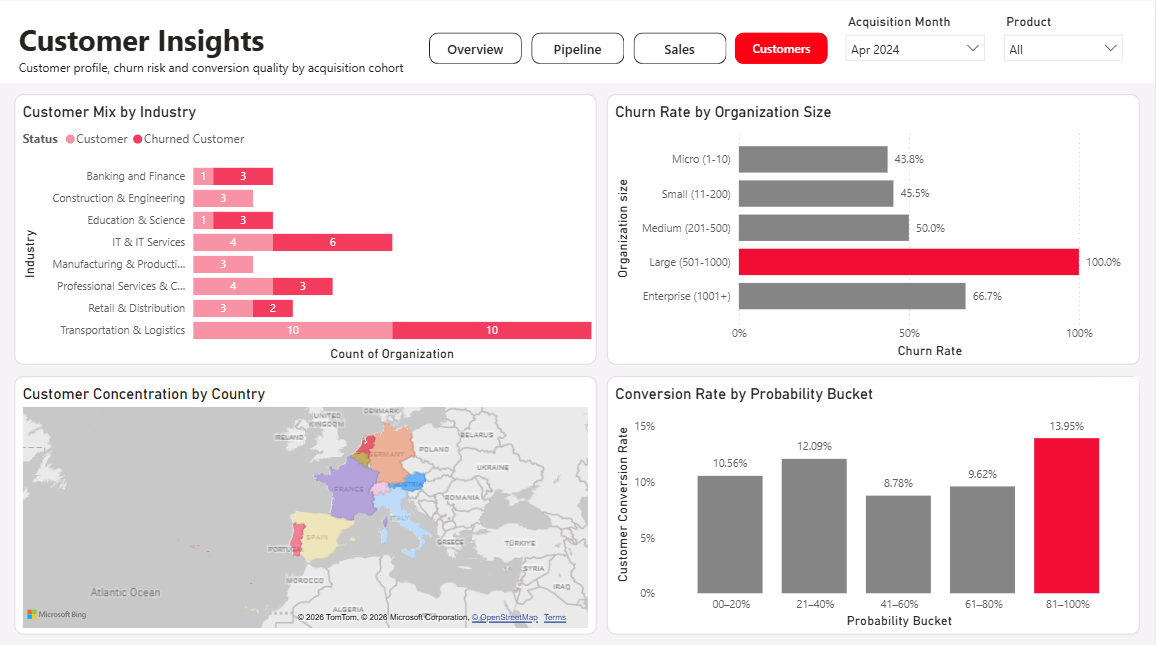

This screenshot's page, from the dashboard's own definition file:
{"tool":"powerbi","page":{"name":"Customers","canvas":[1280,720],"ordinal":3},"visuals":[{"type":"textbox","box":[0,0,1280,90],"z":0},{"type":"textbox","title":"CRM & Sales Pipeline Overview","box":[16,16,485.7,73.1],"z":1000},{"type":"pageNavigator","box":[475.4,35,444.3,35.7],"z":2000},{"type":"slicer","title":"Expected Close Month","fields":{"Values":["DimDate.Year Month"]},"box":[931,9.1,164.6,68.6],"z":3000},{"type":"slicer","title":"Expected Close Month","fields":{"Values":["DimProduct.Product"]},"box":[1106.3,9.1,141.7,68.6],"z":4000},{"type":"barChart","title":"Customer Mix by Industry","fields":{"Category":["DimIndustry.Industry"],"Series":["DimStatus.Status"],"Y":["CountNonNull(Fact_CRM_Pipeline.Organization)"]},"box":[16,102.7,645,300],"z":5000},{"type":"clusteredBarChart","title":"Churn Rate by Organization Size","fields":{"Category":["DimOrgSize.Organization size"],"Y":["Fact_CRM_Pipeline.Churn Rate"]},"box":[672,102.7,590.7,300],"z":6000},{"type":"filledMap","title":"Customer Concentration by Country","fields":{"Category":["DimGeography.Country"],"X":["Avg(DimGeography.Longitude)"],"Y":["Avg(DimGeography.Latitude)"]},"box":[16,415,645,287],"z":7000},{"type":"clusteredColumnChart","title":"Conversion Rate by Probability Bucket","fields":{"Category":["Fact_CRM_Pipeline.Probability Bucket"],"Y":["Fact_CRM_Pipeline.Customer Conversion Rate"]},"box":[672,415,591,287],"z":8000}]}

Visuals, with their boxes in screenshot pixels (x1, y1, x2, y2), scaled from the page's 1280x720 canvas onto the 1156x645 screenshot:
textbox: bbox(0, 0, 1155, 81)
"CRM & Sales Pipeline Overview" textbox: bbox(14, 14, 453, 80)
pageNavigator: bbox(429, 31, 831, 63)
"Expected Close Month" slicer: bbox(841, 8, 989, 70)
"Expected Close Month" slicer: bbox(999, 8, 1127, 70)
"Customer Mix by Industry" barChart: bbox(14, 92, 597, 361)
"Churn Rate by Organization Size" clusteredBarChart: bbox(607, 92, 1140, 361)
"Customer Concentration by Country" filledMap: bbox(14, 372, 597, 629)
"Conversion Rate by Probability Bucket" clusteredColumnChart: bbox(607, 372, 1141, 629)
